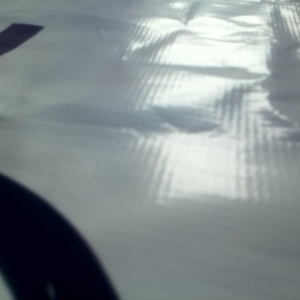bottom_right: (212, 13, 298, 39)
